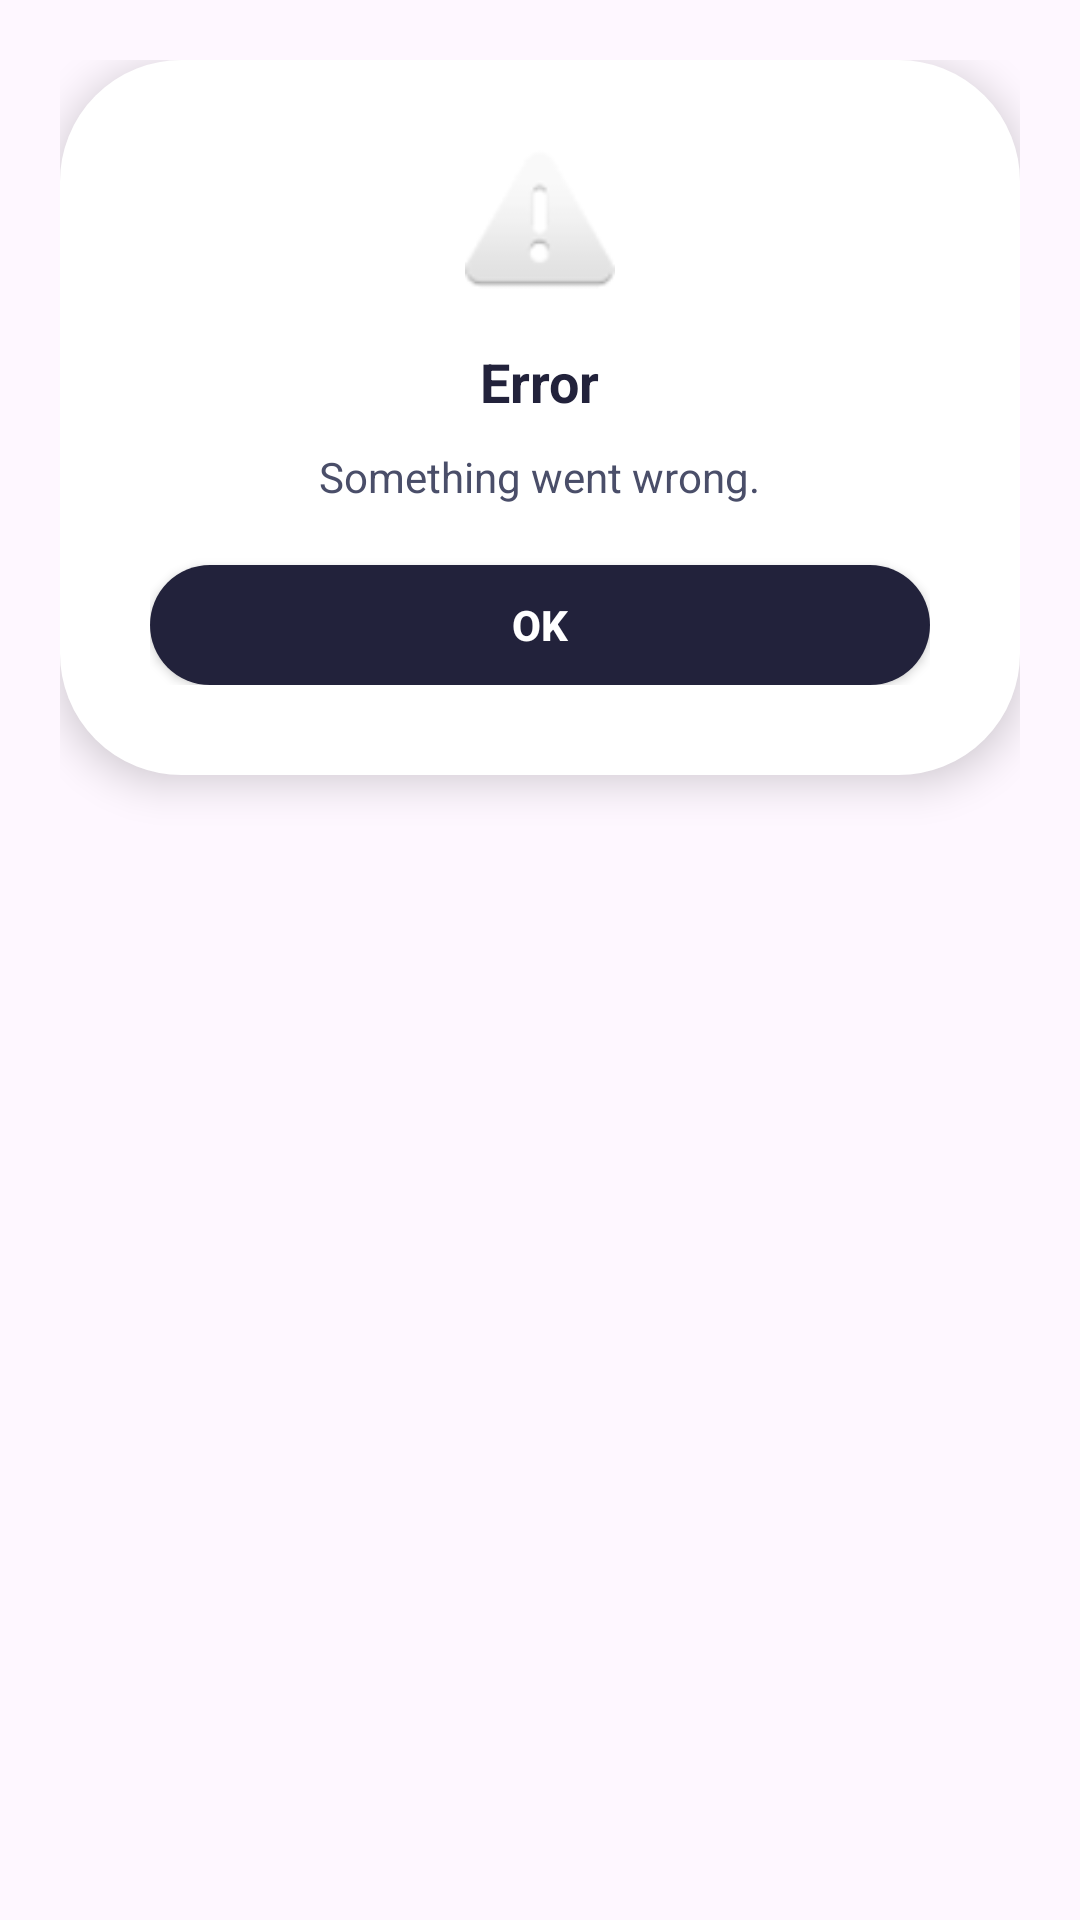

Point at icon controls on the screen. Image size 1080*1920, points as [x,y].
Alert Icon: [540,235]
